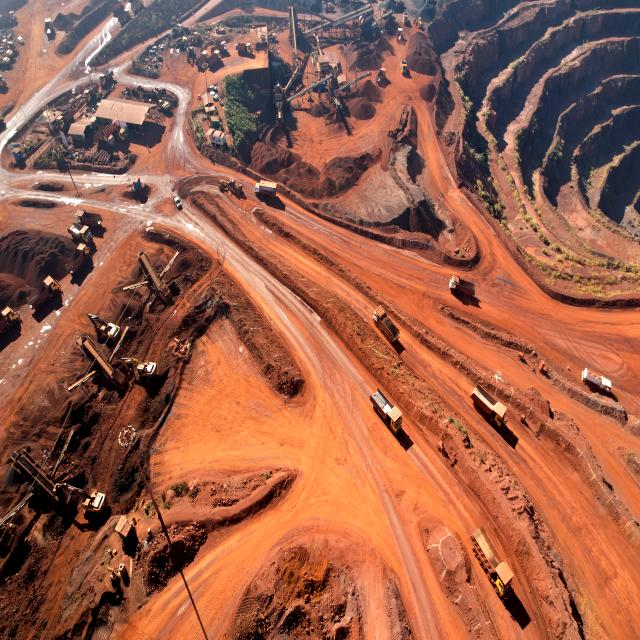Dumper truck: (473, 525, 512, 595), (371, 387, 404, 434), (474, 387, 506, 425), (372, 304, 401, 344), (31, 279, 58, 309), (450, 278, 474, 299), (0, 309, 17, 336), (72, 246, 88, 272), (77, 211, 101, 227), (81, 220, 102, 236), (255, 183, 278, 197), (70, 224, 87, 240), (98, 68, 114, 84), (70, 86, 85, 102), (104, 124, 118, 140), (84, 87, 100, 101), (236, 43, 252, 56), (112, 4, 130, 15), (199, 55, 212, 68), (110, 132, 122, 146), (129, 0, 144, 11), (4, 12, 17, 24), (375, 69, 386, 83), (116, 127, 126, 141), (209, 51, 221, 62), (199, 49, 211, 60), (396, 29, 406, 42), (84, 61, 95, 72), (215, 42, 227, 52), (381, 7, 393, 17), (45, 20, 54, 33), (401, 62, 408, 76), (403, 14, 411, 26), (274, 86, 282, 98), (0, 76, 6, 90), (0, 118, 6, 130)
Excavator: (55, 481, 106, 516), (88, 313, 120, 342), (126, 360, 157, 383), (168, 23, 186, 48), (158, 100, 171, 112), (186, 46, 196, 59)
car: (172, 196, 182, 211)
person: (186, 127, 189, 133), (147, 144, 149, 151), (192, 12, 194, 18)
